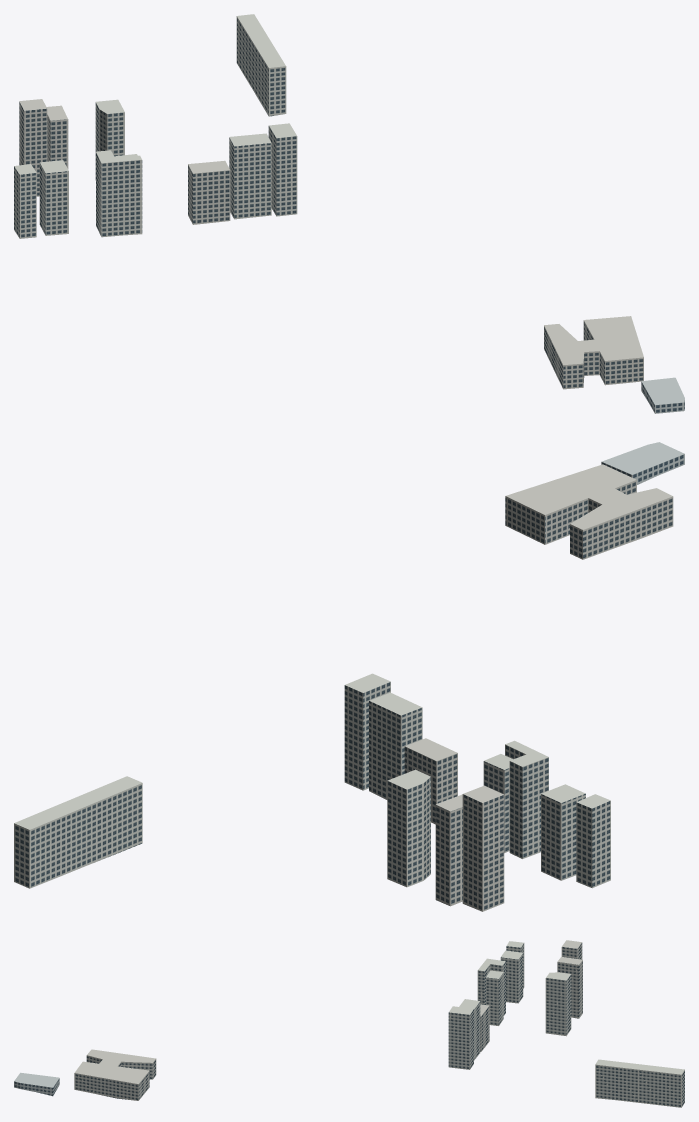
The model's file is city_-9_3.glb.
3 views of the same model, one above another, from view 1: azimuth 30°, elevation 25°; view 2: azimuth 150°, elevation 25°; view 3: azimuth 270°, elevation 25° (orthographic). The views are drawn at different scales.
Size of the model in its own units: 257 by 62.78 by 595.
3 materials, 3 textured.
